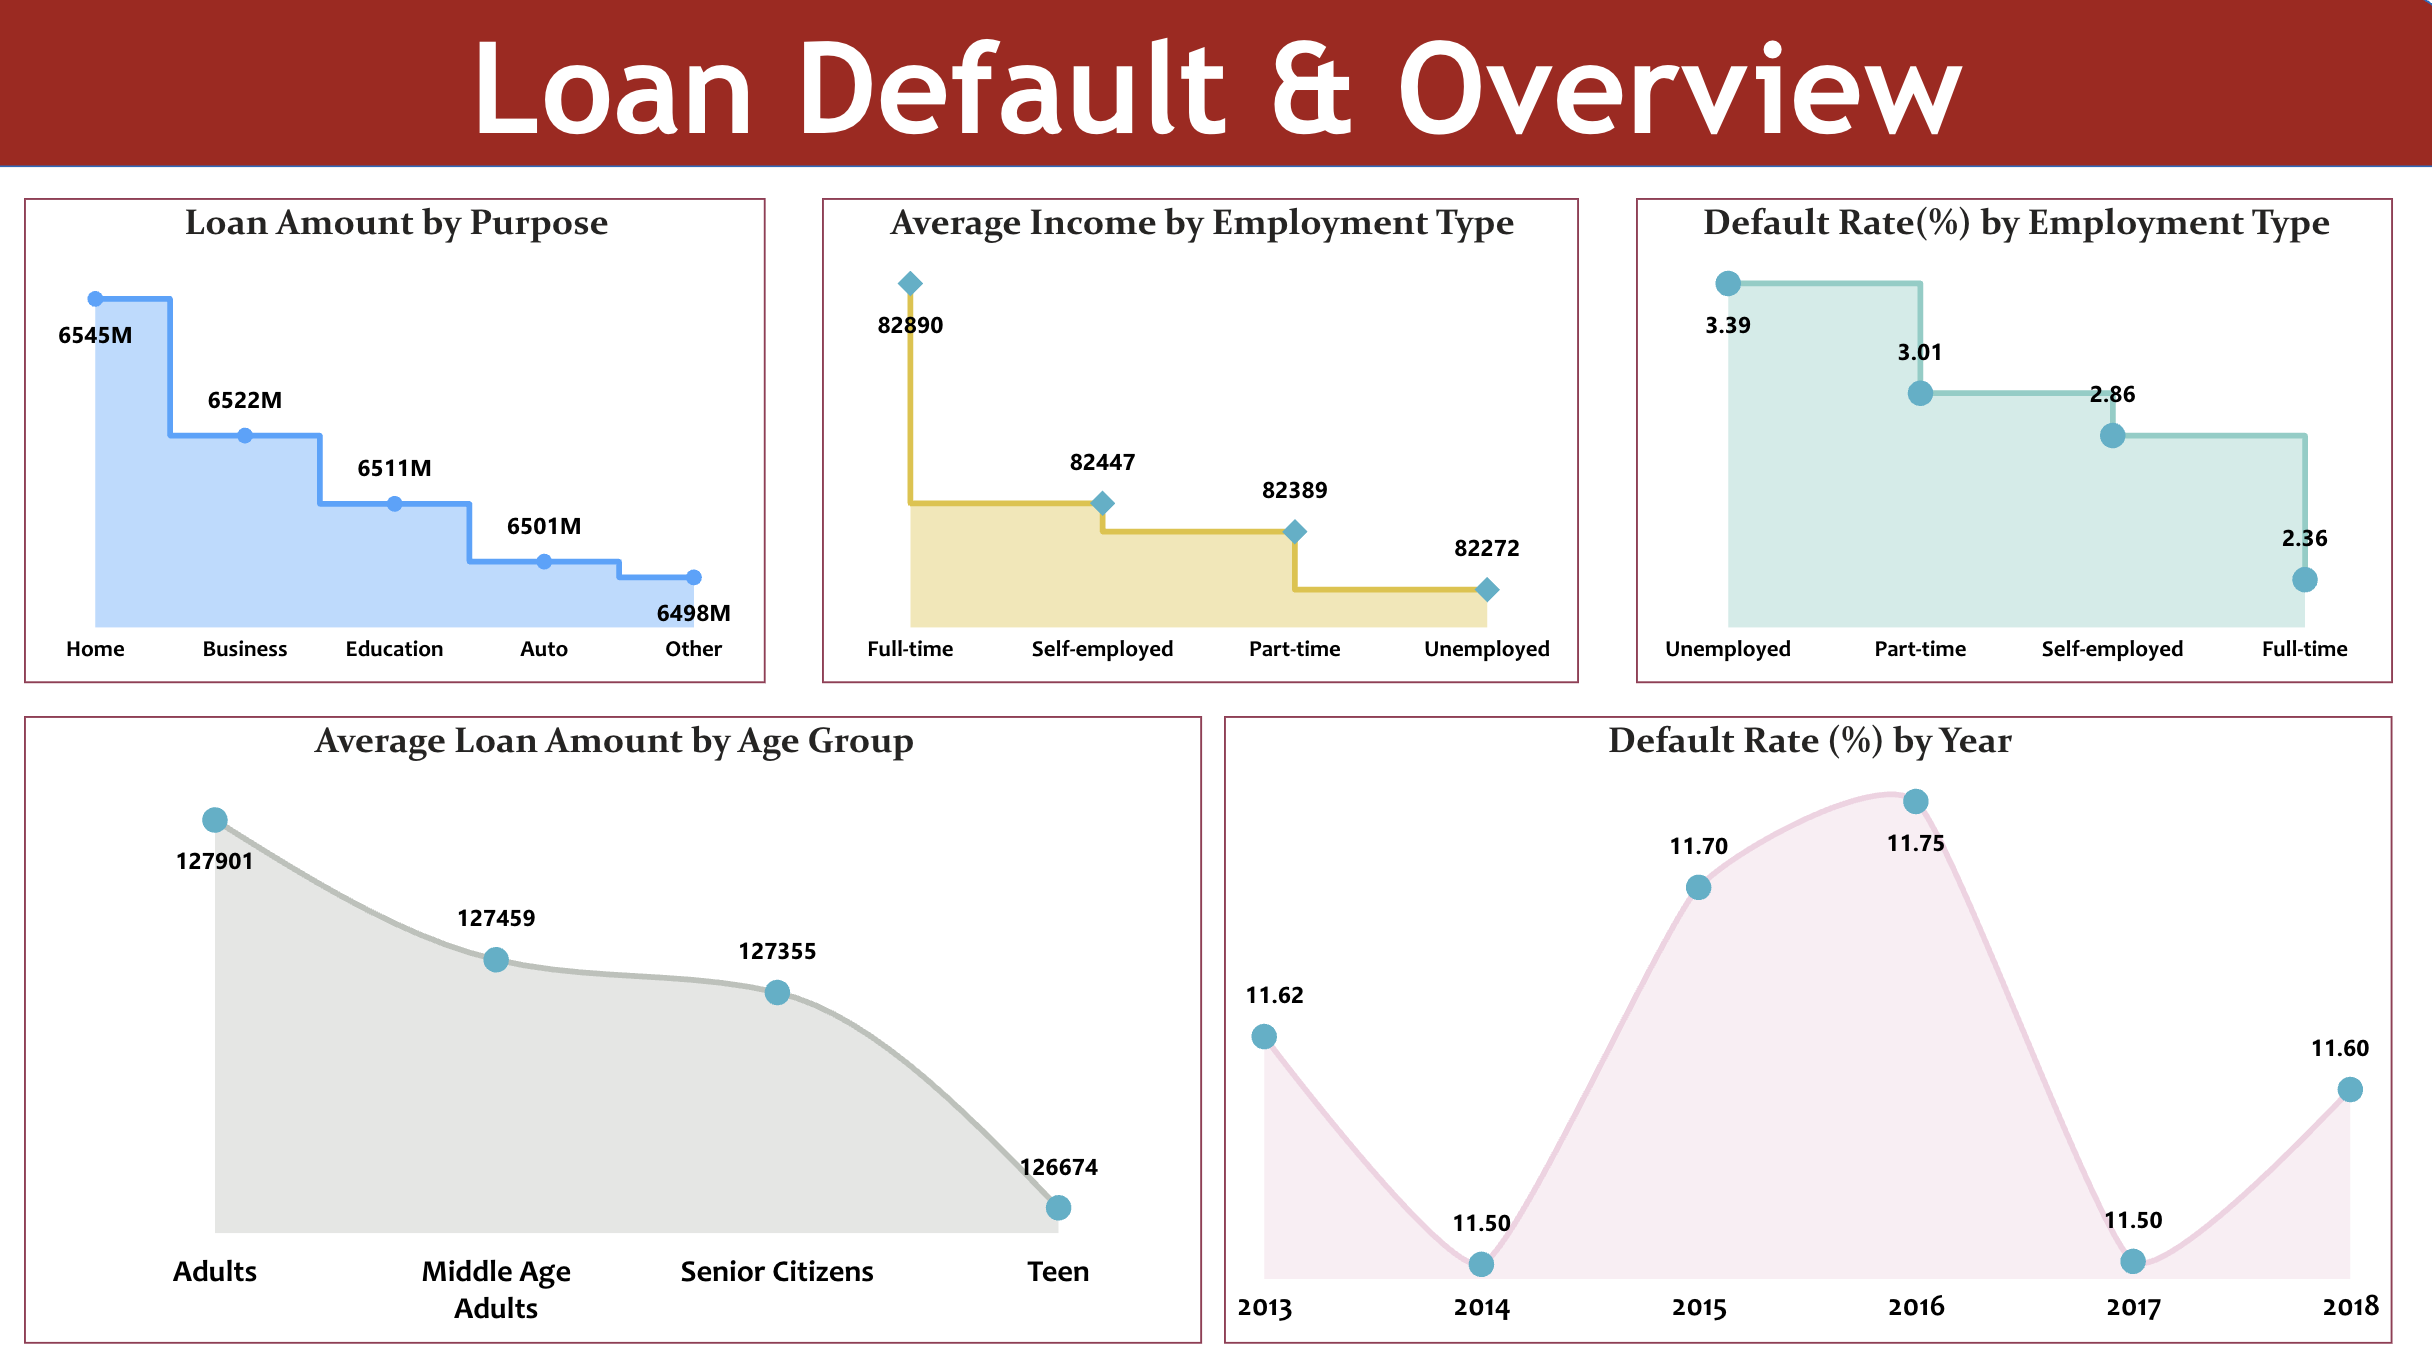

What the dashboard file says about the page in this screenshot:
{"tool":"powerbi","page":{"name":"Loan Default & Overview","canvas":[1280,720],"ordinal":0},"visuals":[{"type":"shape","box":[0,0,1280.3,90.6],"z":0},{"type":"lineChart","title":"Loan Amount by Purpose","fields":{"Y":["Measures Table 1.Loan Amount by Purpose"],"Category":["Loan_default.LoanPurpose"]},"box":[13.3,106.2,387.3,253.3],"z":1000},{"type":"lineChart","title":"Average Income by Employment Type","fields":{"Y":["Measures Table 1.Average Income by Employement Type"],"Category":["Loan_default.EmploymentType"]},"box":[430.1,106.2,395.7,253.3],"z":2000},{"type":"lineChart","title":"Default Rate(%) by Employment Type","fields":{"Y":["Measures Table 1.Default Rate ny Employment Type"],"Category":["Loan_default.EmploymentType"]},"box":[855.4,106.2,395.7,253.3],"z":3000},{"type":"lineChart","title":"Average Loan Amount by Age Group","fields":{"Y":["Measures Table 1.Average Loan by Age Group"],"Category":["Loan_default.Age Groups"]},"box":[13.3,377.6,615.3,328.1],"z":4000},{"type":"lineChart","title":"Default Rate (%) by Year","fields":{"Y":["Measures Table 1.Default Rate by Year"],"Category":["Loan_default.Year"]},"box":[640.6,377.6,610.5,328.1],"z":5000}]}

Visuals, with their boxes in screenshot pixels (x1, y1, x2, y2), scaled from the page's 1280x720 canvas onto the 2432x1362 screenshot:
shape: (left=0, top=0, right=2431, bottom=171)
"Loan Amount by Purpose" lineChart: (left=25, top=201, right=761, bottom=680)
"Average Income by Employment Type" lineChart: (left=817, top=201, right=1569, bottom=680)
"Default Rate(%) by Employment Type" lineChart: (left=1625, top=201, right=2377, bottom=680)
"Average Loan Amount by Age Group" lineChart: (left=25, top=714, right=1194, bottom=1335)
"Default Rate (%) by Year" lineChart: (left=1217, top=714, right=2377, bottom=1335)
